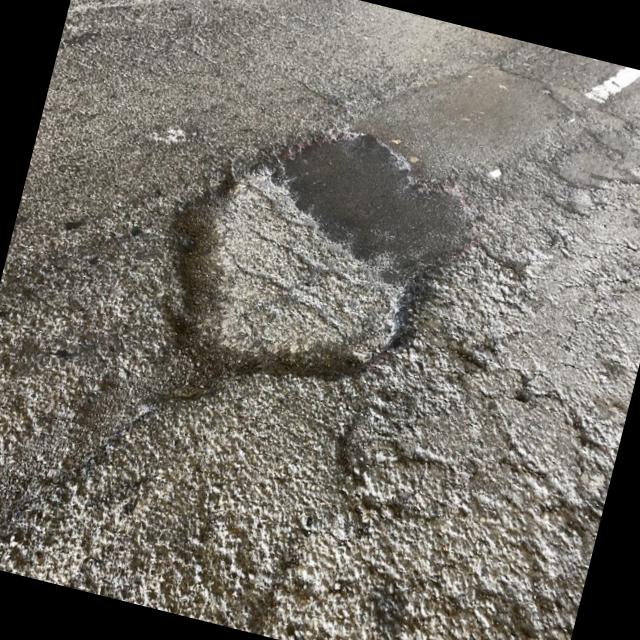Potholes: (111, 75, 482, 410)
